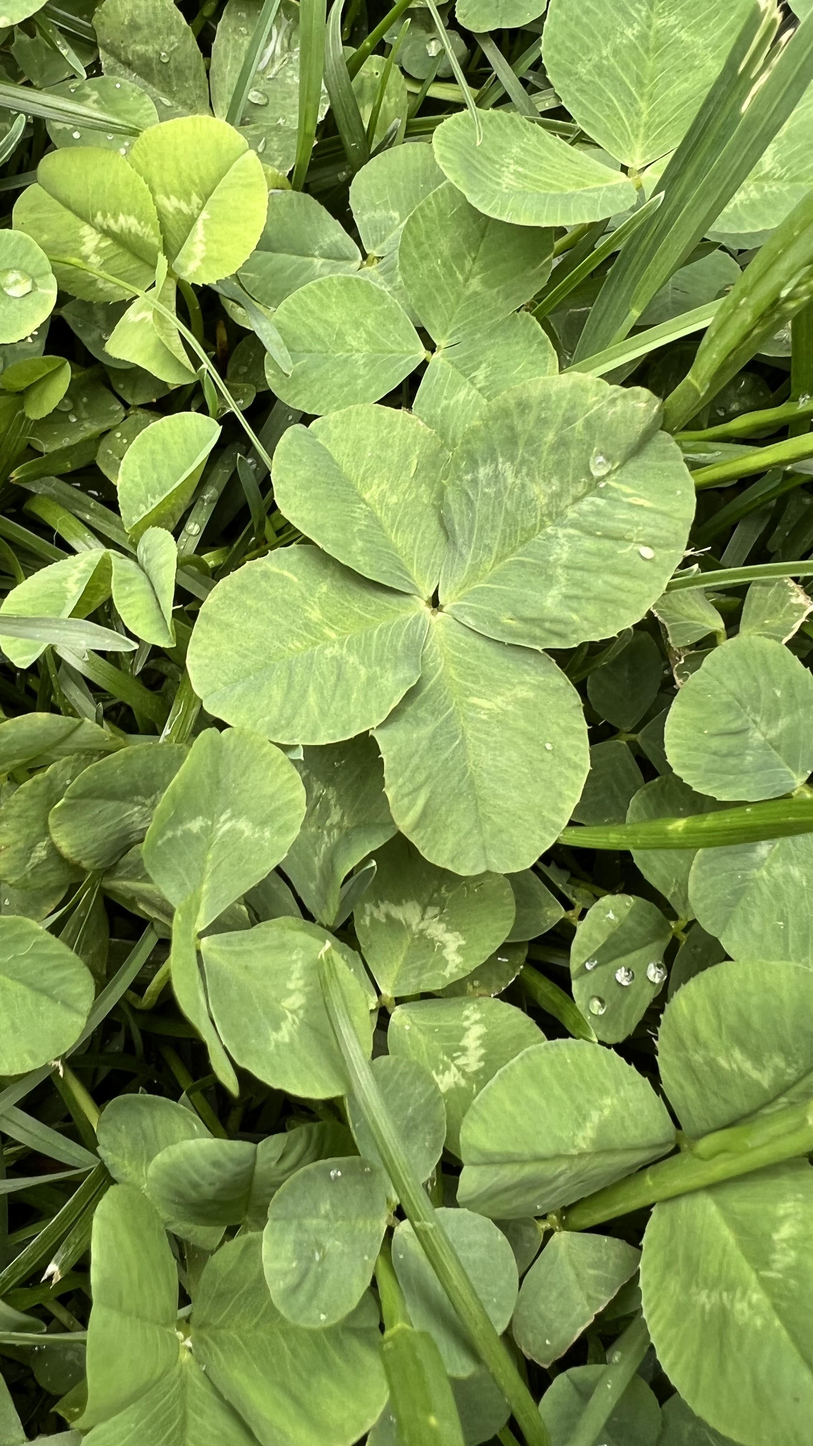4-Leaf-Clovers: (200, 373, 694, 873)
